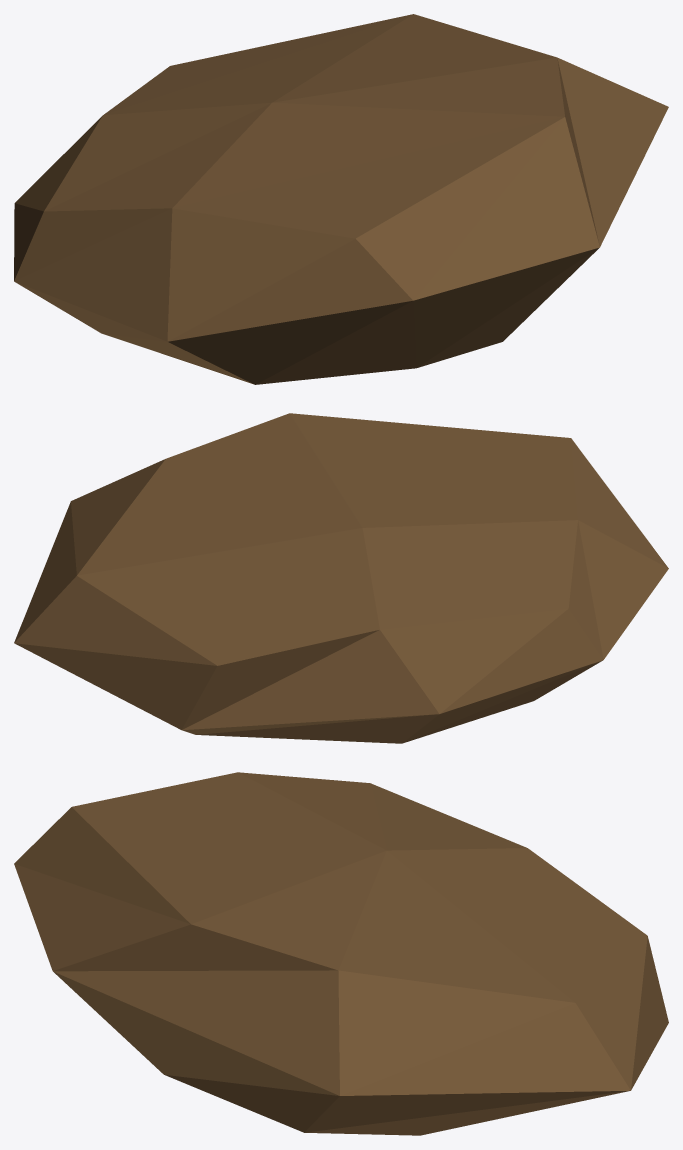
Rendered from rock06.fbx.
3 renders of one model, top to bottom at view 1: azimuth 30°, elevation 25°; view 2: azimuth 150°, elevation 25°; view 3: azimuth 270°, elevation 25°, orthographic. The views are drawn at different scales.
Visible parts, largest first — view 1: rock7; view 2: rock7; view 3: rock7.
Part boxes in pixels (bbox=[...]): rock7: bbox=[14, 14, 668, 384]; rock7: bbox=[14, 413, 668, 743]; rock7: bbox=[14, 772, 668, 1135].
Bounding box in the file's own units: 148 × 52.08 × 137.
